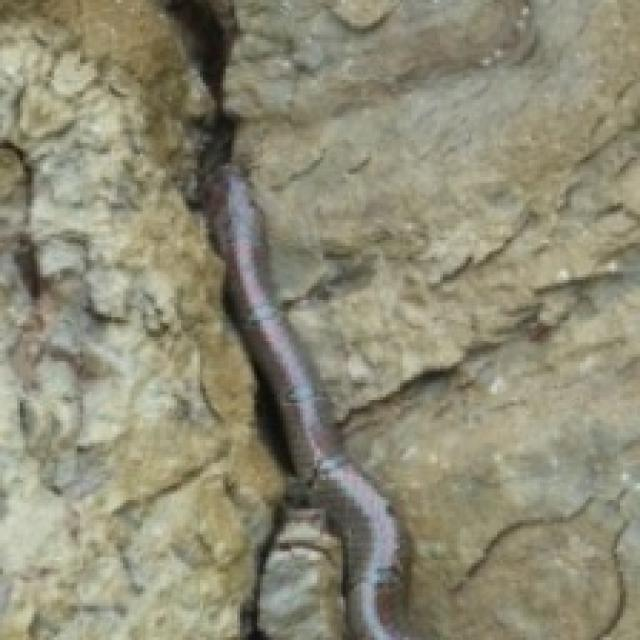northern short-headed snake: (204, 165, 419, 639)
